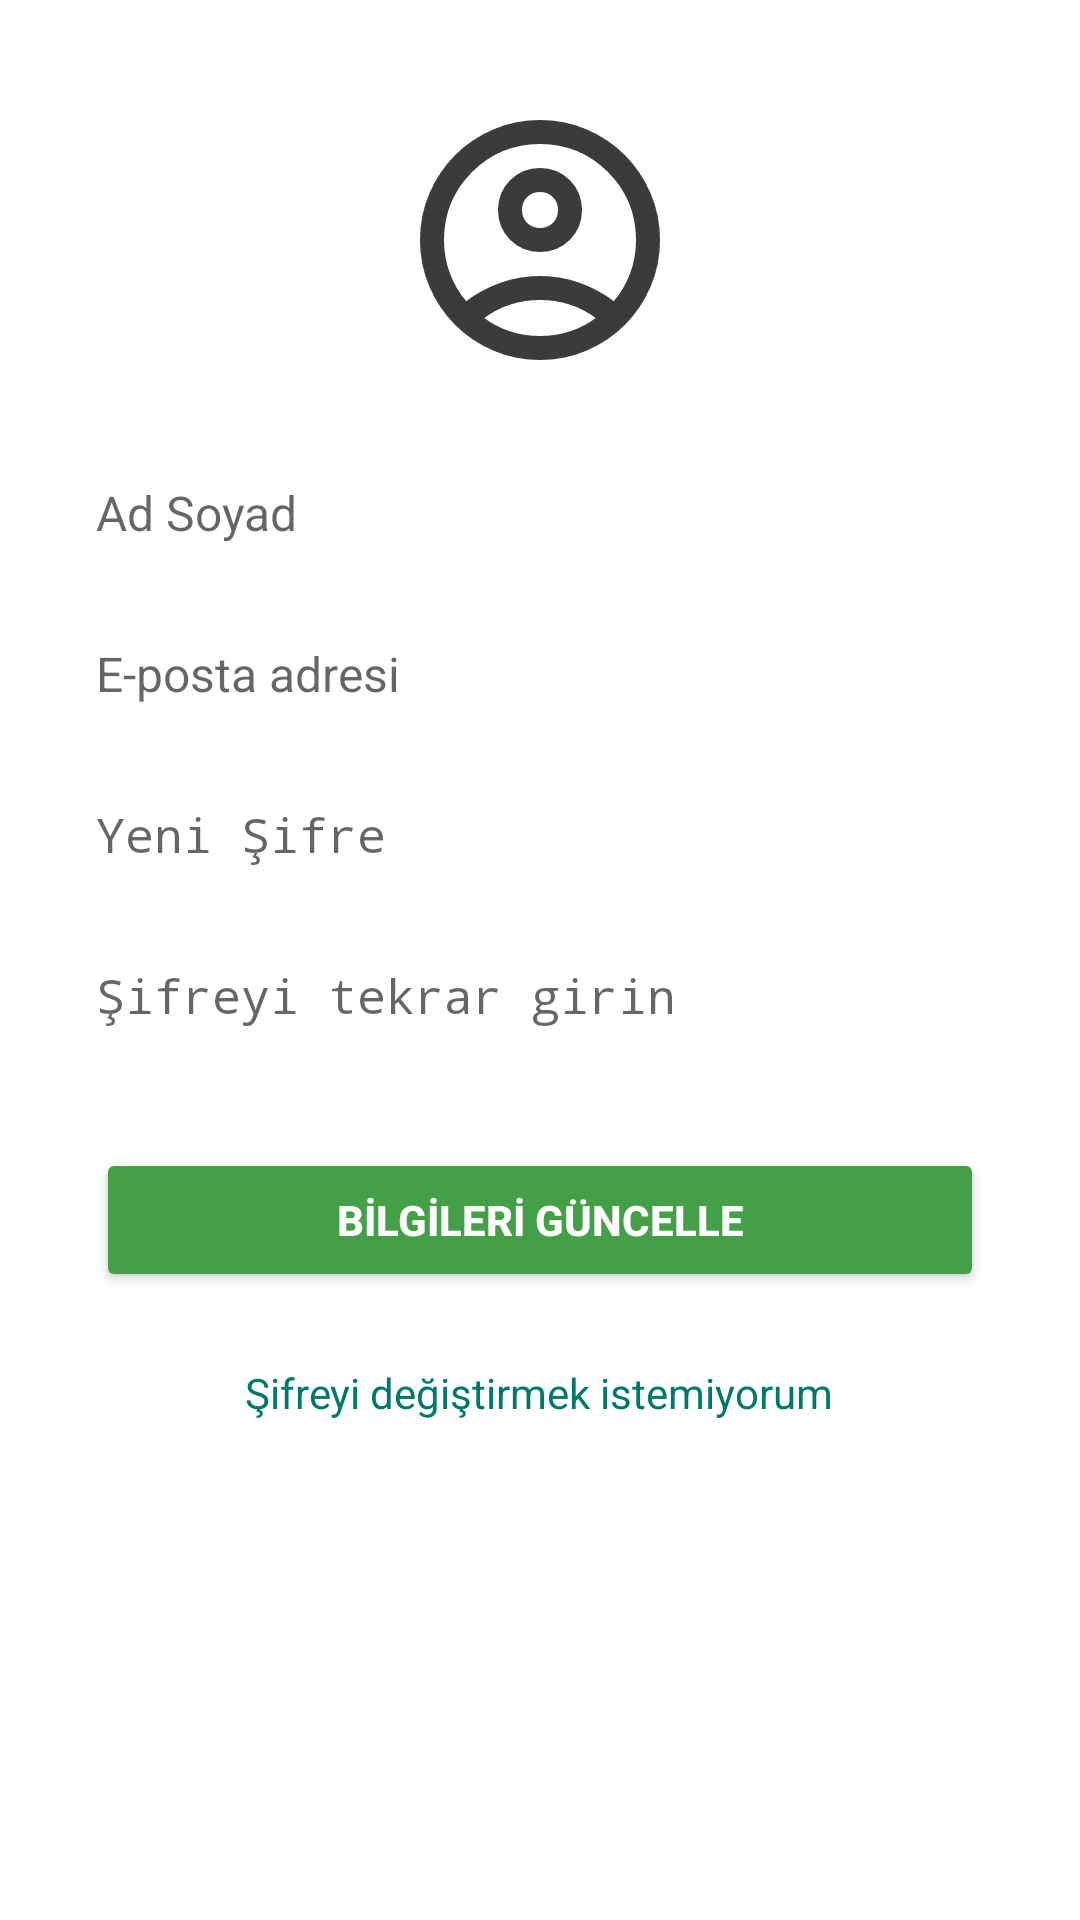

Icons on this 1080px×1920px Android screen, each with the point to tap as [x,y]:
profile: [540,240]
